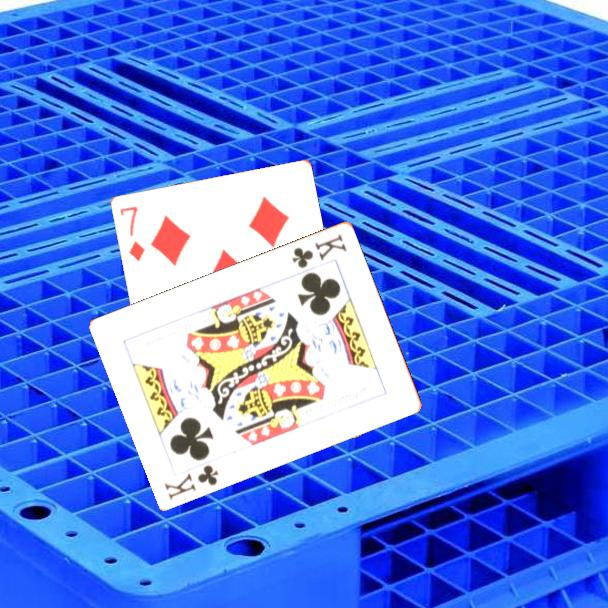c13: (289, 229, 350, 271), (161, 461, 222, 502)
d07: (116, 202, 147, 264)
